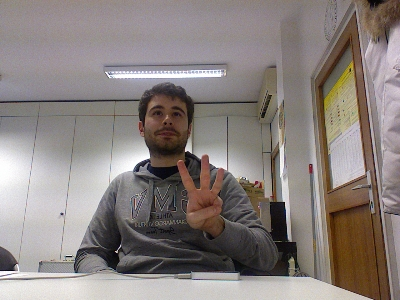三分: (175, 153, 224, 231)
